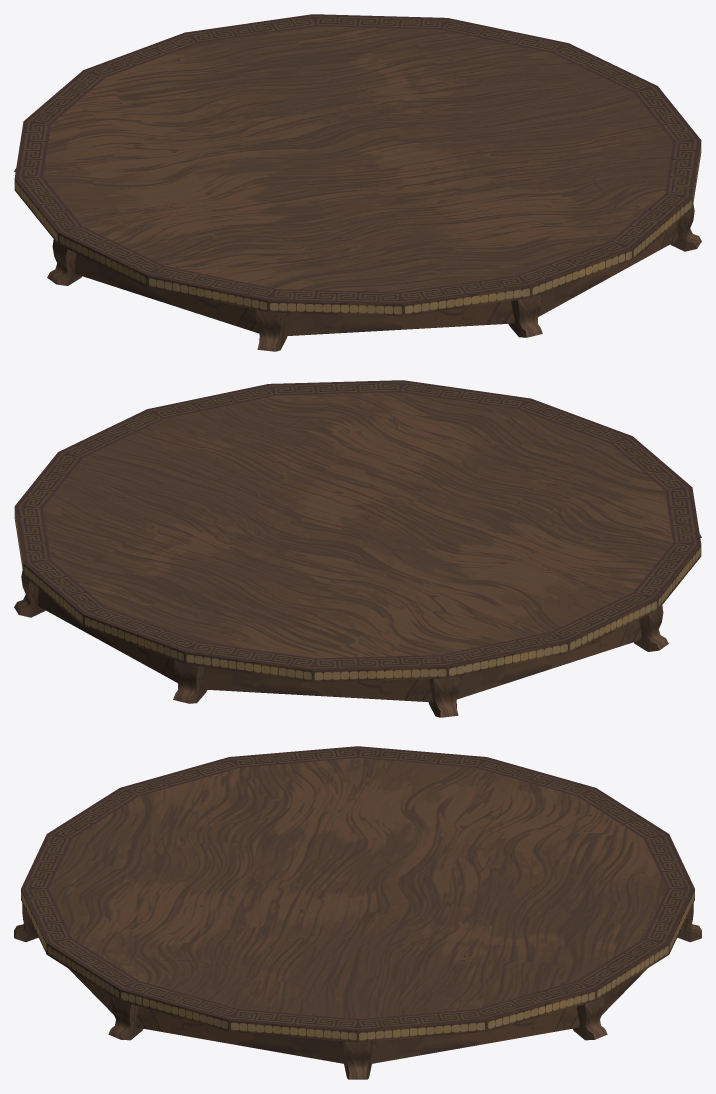
File: diningtable.fbx
The picture shows the model from 3 angles, top to bottom: view 1: azimuth 30°, elevation 25°; view 2: azimuth 150°, elevation 25°; view 3: azimuth 270°, elevation 25°; orthographic projection. The views are drawn at different scales.
Parts seen in each view (by area): view 1: diningtable; view 2: diningtable; view 3: diningtable.
Boxes of the visible parts, x1,y1,x2,y2 form: diningtable: (14, 14, 701, 351); diningtable: (14, 380, 701, 717); diningtable: (14, 746, 701, 1079).
Bounding box in the file's own units: 766 × 60.36 × 766.
